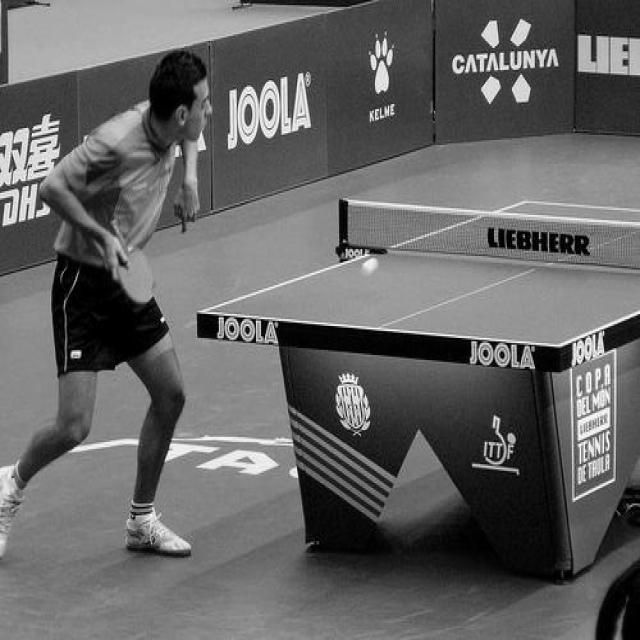ping-pong-ball: (360, 256, 380, 278)
